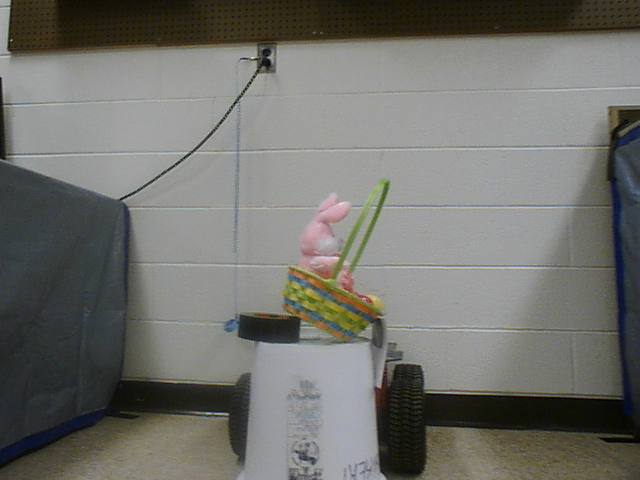bunny: (274, 166, 403, 346)
